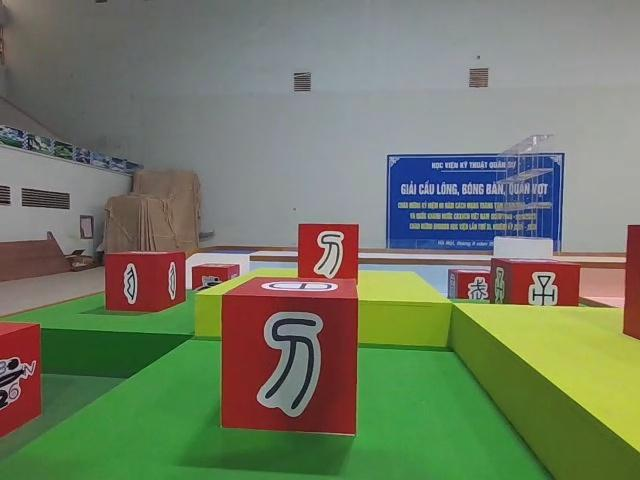R1: (0, 318, 45, 439), (191, 260, 240, 296)
R2 Fake: (218, 274, 362, 437), (296, 221, 361, 288), (447, 267, 501, 305)
R2 Real: (103, 249, 189, 315), (488, 256, 584, 315)
